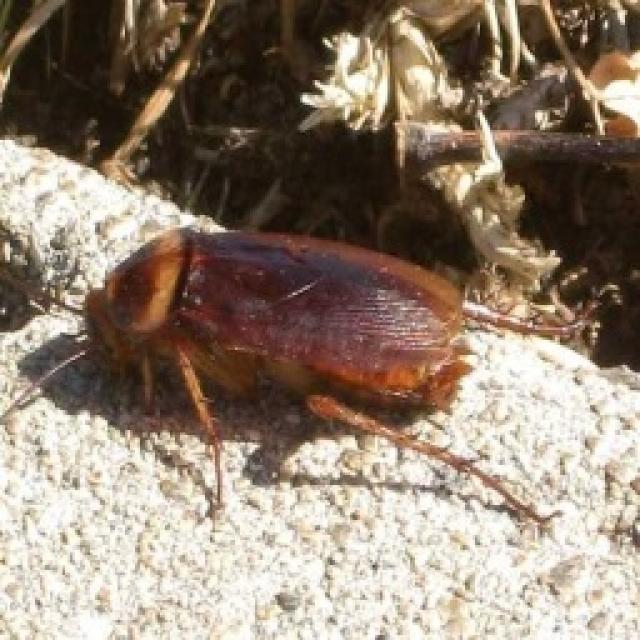cockroach: (59, 206, 520, 461)
